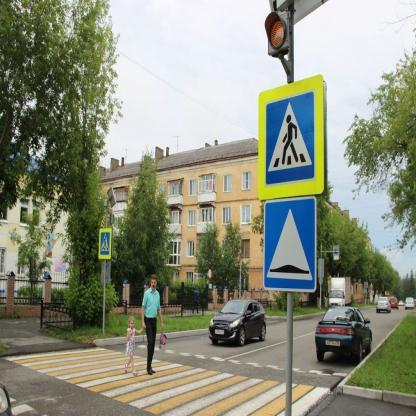road_sign: (258, 71, 326, 196), (262, 201, 320, 286), (96, 225, 113, 261)
